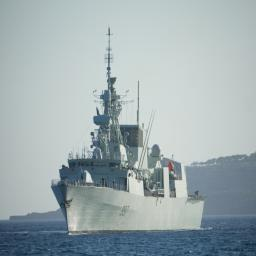Fragata: (51, 21, 210, 238)
